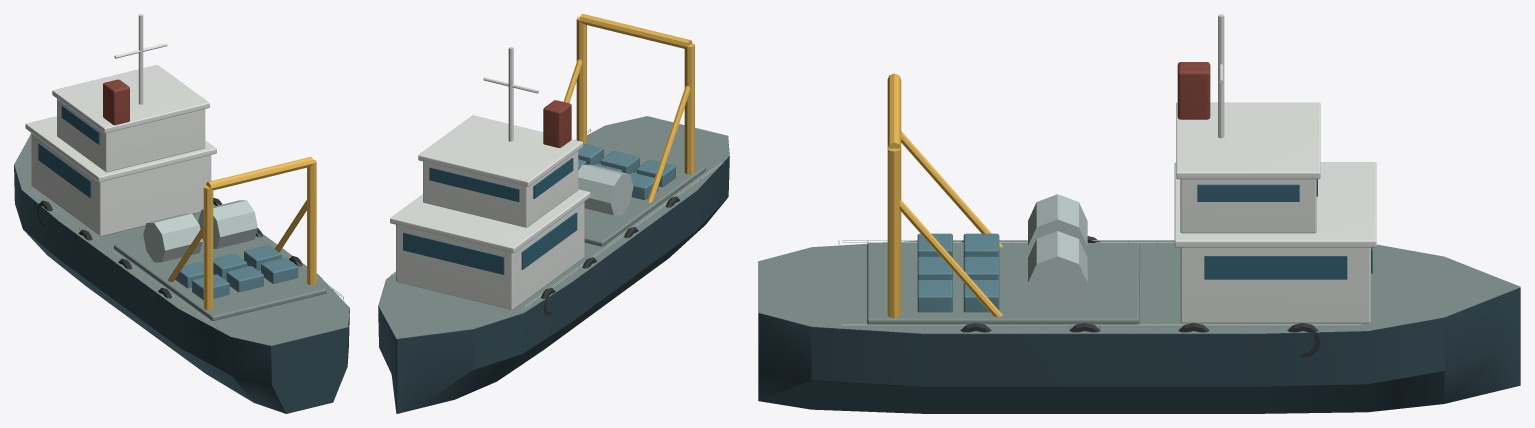
File: fishing-trawler.glb
The picture shows the model from 3 angles, left to right: view 1: azimuth 30°, elevation 25°; view 2: azimuth 150°, elevation 25°; view 3: azimuth 270°, elevation 25°; orthographic projection. The views are drawn at different scales.
Visible parts, largest first — view 1: fishing-trawler; view 2: fishing-trawler; view 3: fishing-trawler.
Boxes of the visible parts, x1,y1,x2,y2 form: fishing-trawler: (14,14,349,413); fishing-trawler: (378,14,729,413); fishing-trawler: (758,14,1520,413).
Bounding box in the file's own units: 8.16 × 15 × 28.
